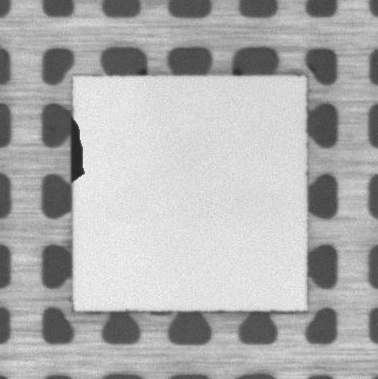DIE_BROKEN: (68, 114, 87, 184)
